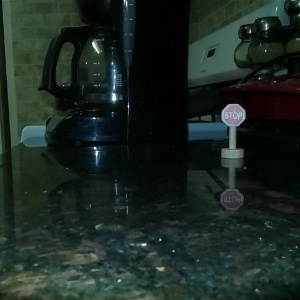stop sign: (218, 101, 247, 162)
